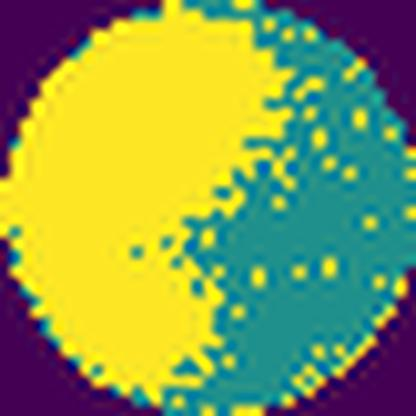Edge-Loc: (0, 0, 297, 399)
